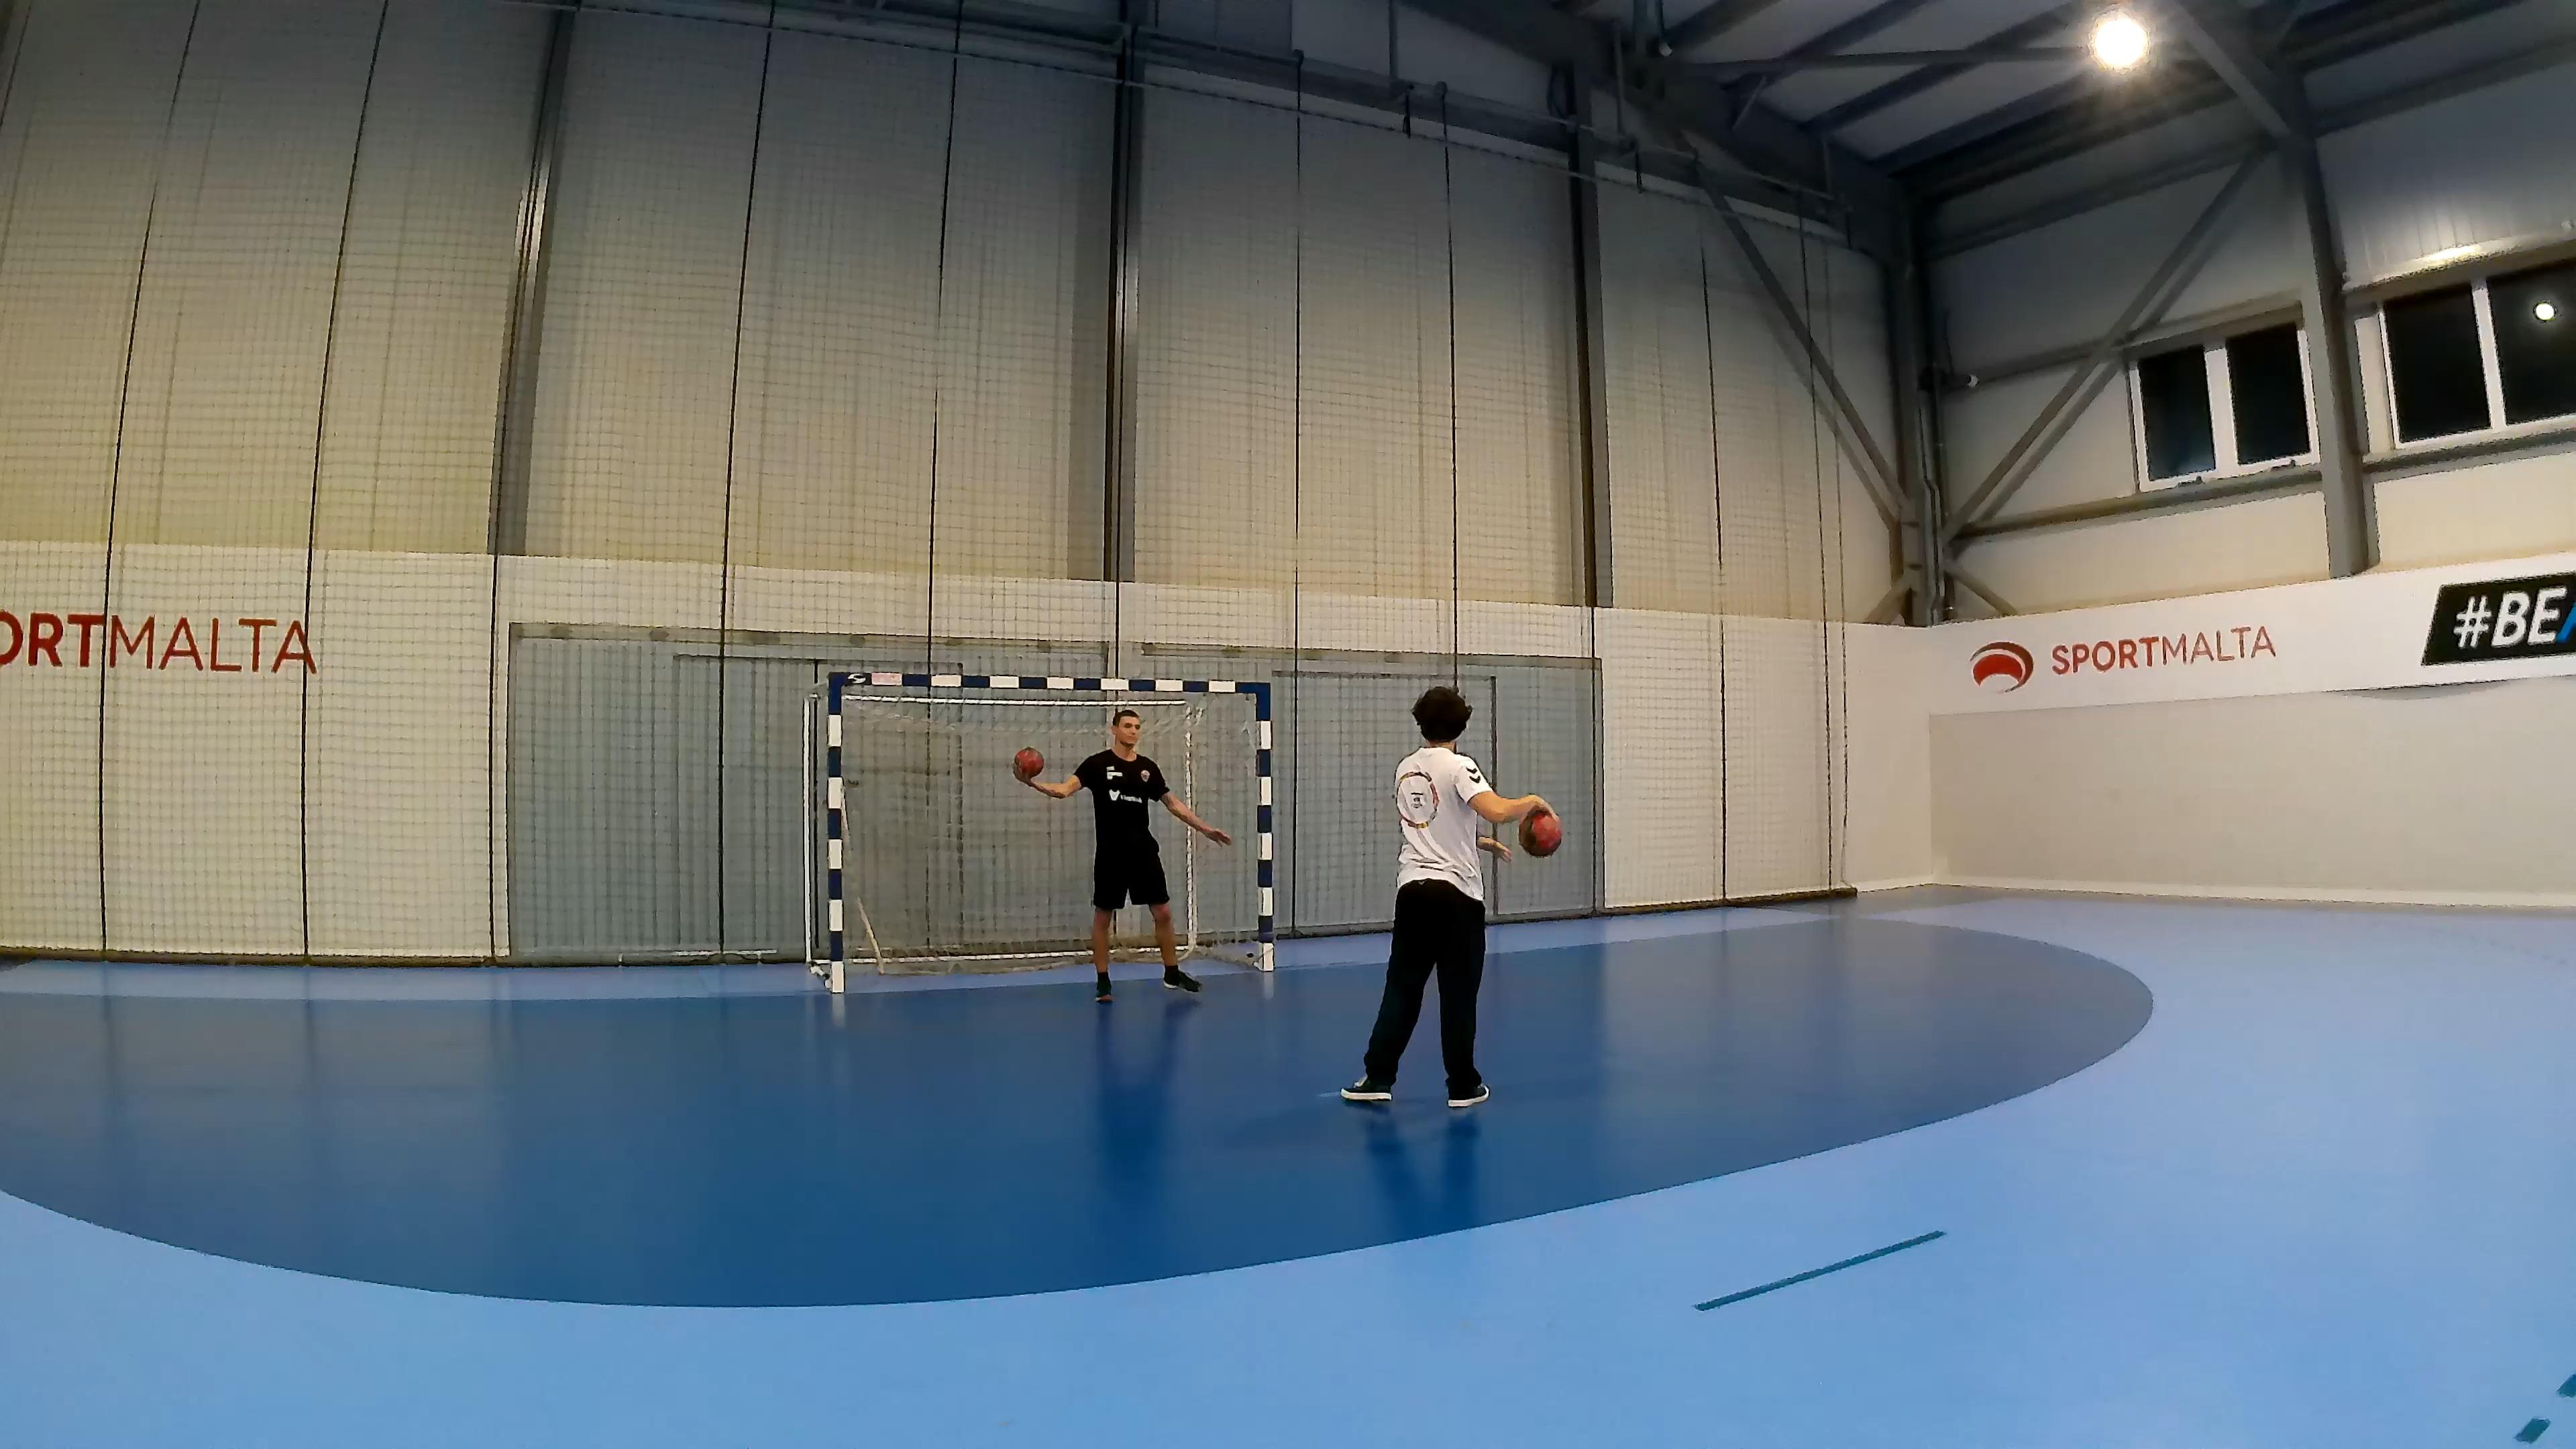handball: (1518, 807, 1564, 865), (1012, 747, 1046, 782)
